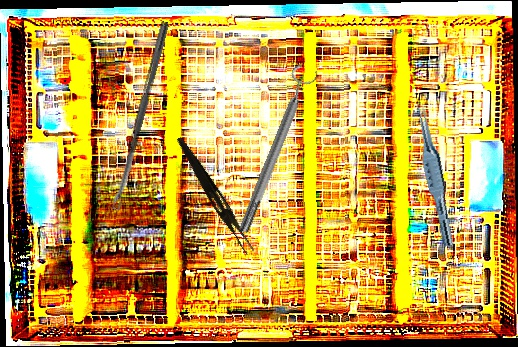Dressing Forceps: (170, 135, 259, 256)
Fixation Ring: (228, 62, 322, 237)
Surgical Spoon: (110, 20, 170, 211)
Tissue Forceps: (409, 105, 462, 248)
